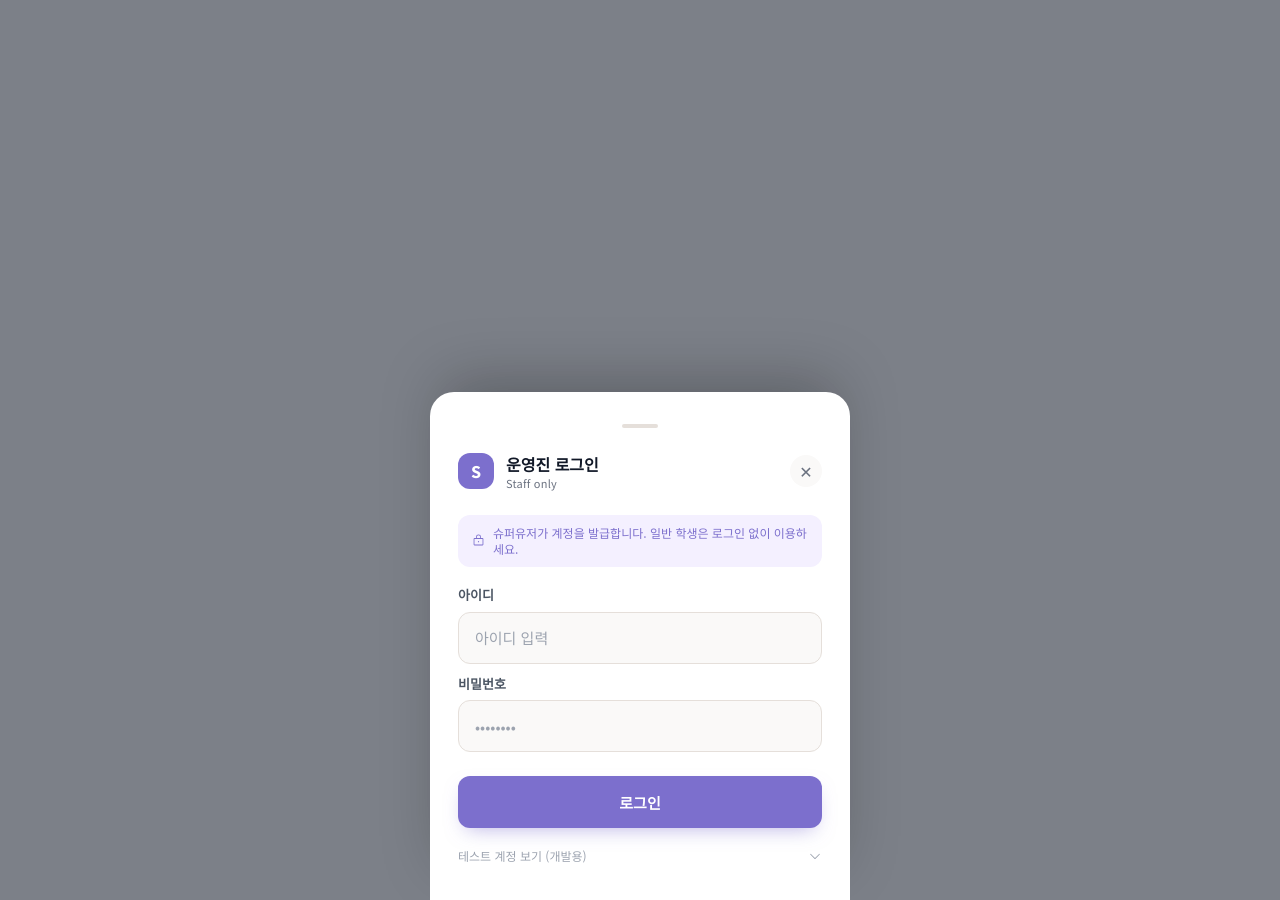
Test: LoginModal — 운영진 로그인 › 아이디·비밀번호 미입력 시 검증 오류를 표시하고 API를 호출하지 않는다
Step 1. Click the button "로그인" → (640, 802), box [458,776,822,828]
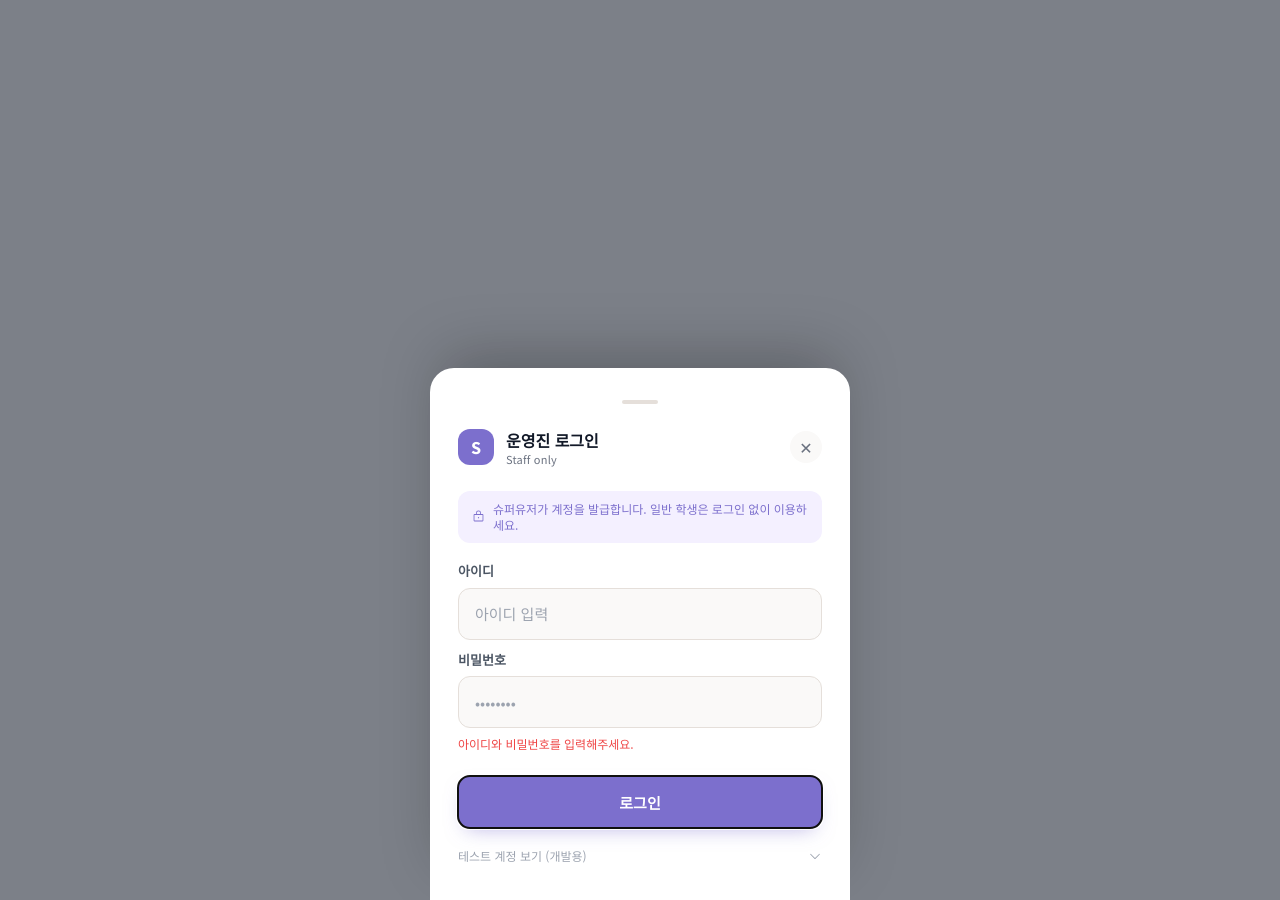
Now the text "아이디와 비밀번호를 입력해주세요." is shown, box [458,735,634,752]
